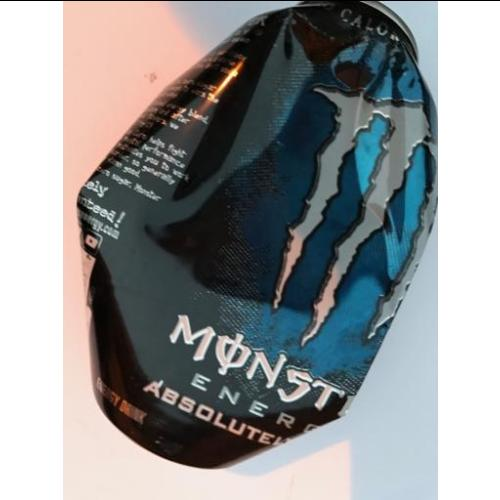metal: (78, 2, 439, 471)
